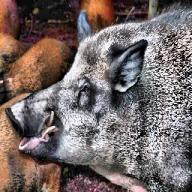boar: (4, 1, 192, 192)
